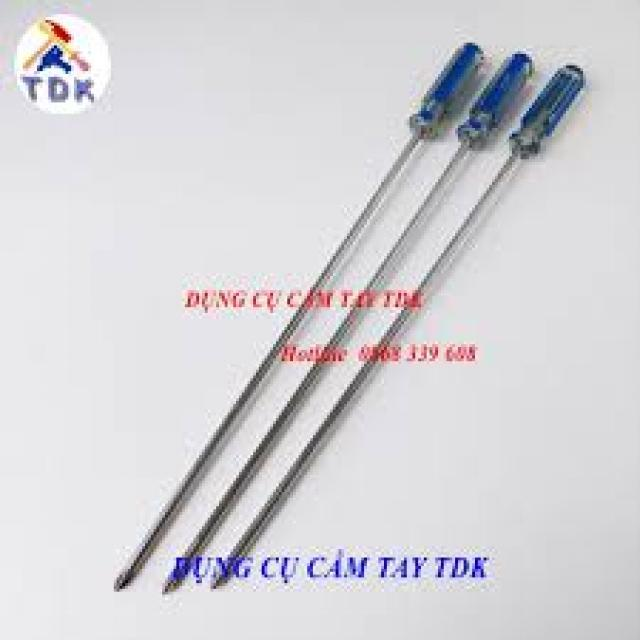screwdriver: (150, 51, 538, 603), (109, 38, 488, 599), (208, 60, 588, 598)
